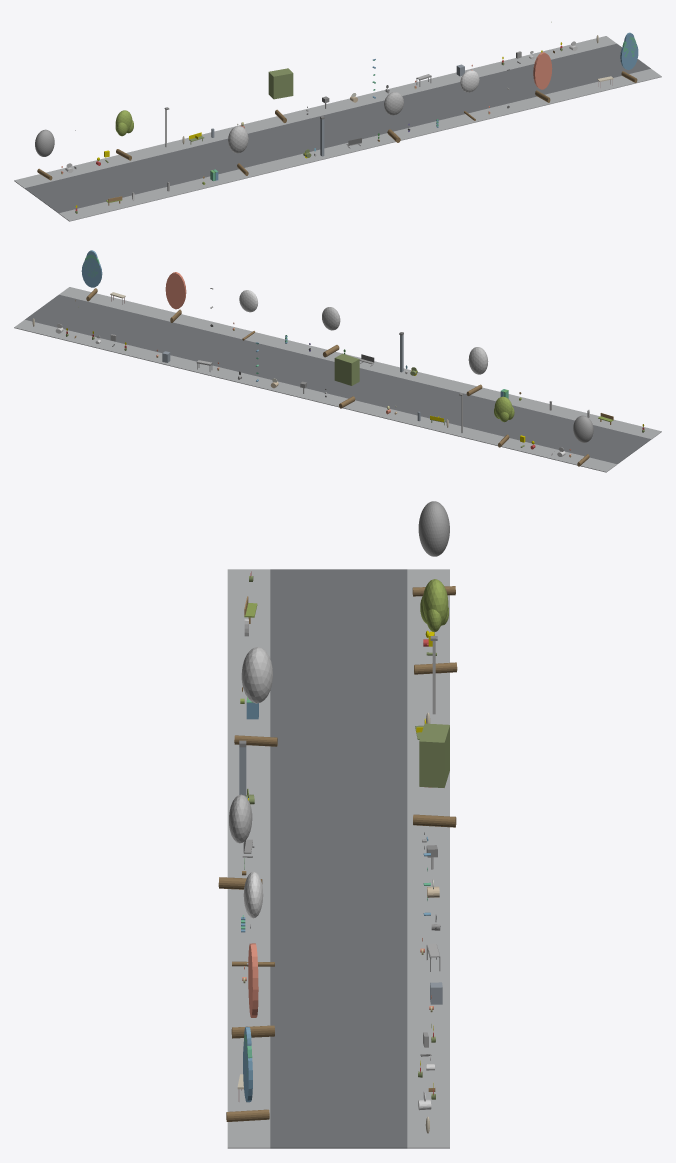
3 views of the same model, one above another, from view 1: azimuth 30°, elevation 25°; view 2: azimuth 150°, elevation 25°; view 3: azimuth 270°, elevation 25° (orthographic). The views are drawn at different scales.
Parts seen in each view (by area): view 1: road_slab, sidewalk_left, sidewalk_right, inst_0021, inst_0024, inst_0025, inst_0020, inst_0018, inst_0019, inst_0022, inst_0023; view 2: road_slab, sidewalk_right, sidewalk_left, inst_0021, inst_0024, inst_0025, inst_0018, inst_0020, inst_0019, inst_0022, inst_0023; view 3: road_slab, sidewalk_right, sidewalk_left, inst_0021, inst_0020, inst_0018, inst_0019, inst_0022, inst_0024, inst_0025, inst_0023.
Part boxes in pixels (left/top/right/bottom): road_slab: left=25, top=43, right=650, bottom=213; sidewalk_left: left=59, top=69, right=661, bottom=221; sidewalk_right: left=14, top=36, right=616, bottom=188; inst_0021: left=268, top=68, right=293, bottom=122; inst_0024: left=533, top=52, right=552, bottom=102; inst_0025: left=620, top=32, right=638, bottom=82; inst_0020: left=228, top=126, right=248, bottom=175; inst_0018: left=35, top=129, right=54, bottom=180; inst_0019: left=115, top=110, right=133, bottom=160; inst_0022: left=384, top=92, right=403, bottom=142; inst_0023: left=460, top=70, right=479, bottom=120; road_slab: left=25, top=294, right=651, bottom=464; sidewalk_right: left=14, top=319, right=616, bottom=472; sidewalk_left: left=59, top=287, right=661, bottom=439; inst_0021: left=334, top=353, right=359, bottom=408; inst_0024: left=165, top=272, right=186, bottom=322; inst_0025: left=81, top=250, right=102, bottom=301; inst_0018: left=573, top=415, right=593, bottom=466; inst_0020: left=466, top=347, right=488, bottom=395; inst_0019: left=494, top=396, right=514, bottom=447; inst_0022: left=322, top=307, right=340, bottom=357; inst_0023: left=239, top=290, right=257, bottom=340; road_slab: left=270, top=569, right=407, bottom=1148; sidewalk_right: left=407, top=569, right=449, bottom=1148; sidewalk_left: left=227, top=569, right=270, bottom=1148; inst_0021: left=413, top=723, right=456, bottom=827; inst_0020: left=234, top=647, right=277, bottom=746; inst_0018: left=412, top=501, right=455, bottom=596; inst_0019: left=414, top=579, right=457, bottom=674; inst_0022: left=218, top=794, right=262, bottom=889; inst_0024: left=231, top=943, right=274, bottom=1038; inst_0025: left=226, top=1027, right=269, bottom=1121; inst_0023: left=232, top=871, right=274, bottom=966.
Bounding box in the file's own units: 80 × 6.08 × 13.94.
